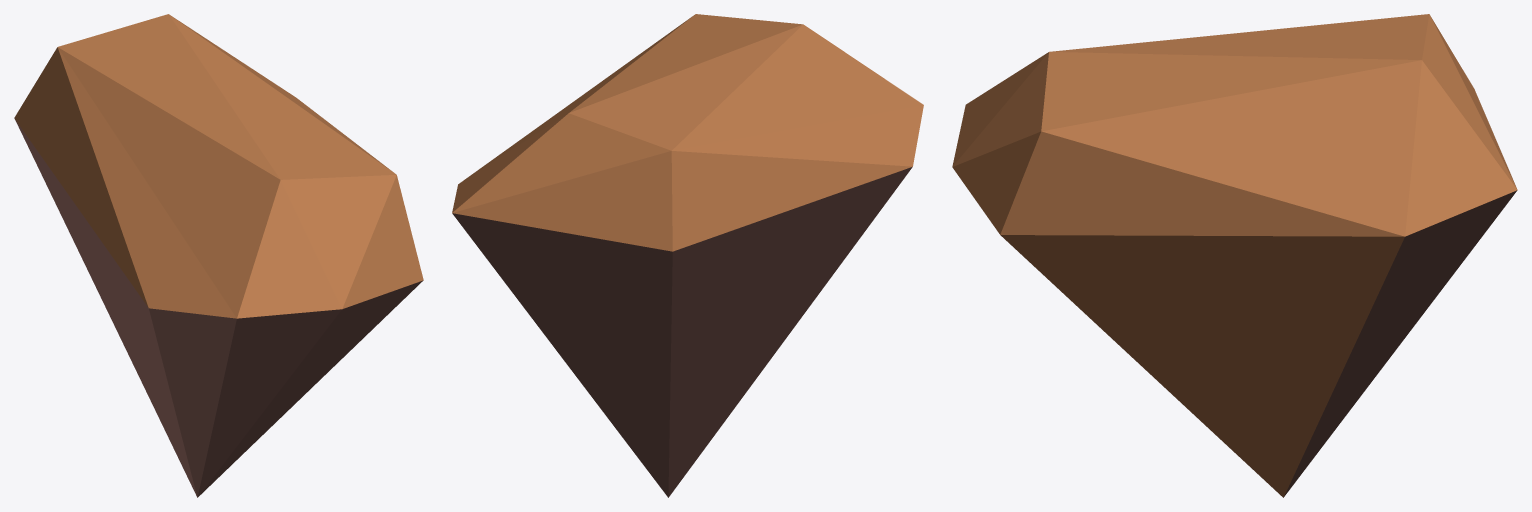
File: CommonTree_Autumn_1.lod4.glb
The picture shows the model from 3 angles, left to right: view 1: azimuth 30°, elevation 25°; view 2: azimuth 150°, elevation 25°; view 3: azimuth 270°, elevation 25°; orthographic projection. The views are drawn at different scales.
Parts seen in each view (by area): view 1: CommonTree_Autumn_1; view 2: CommonTree_Autumn_1; view 3: CommonTree_Autumn_1.
Part boxes in pixels (x1=…): CommonTree_Autumn_1: x1=14, y1=14, x2=423, y2=497; CommonTree_Autumn_1: x1=452, y1=14, x2=923, y2=497; CommonTree_Autumn_1: x1=952, y1=14, x2=1517, y2=497.
Bounding box in the file's own units: 1.89 × 2.55 × 2.86.
